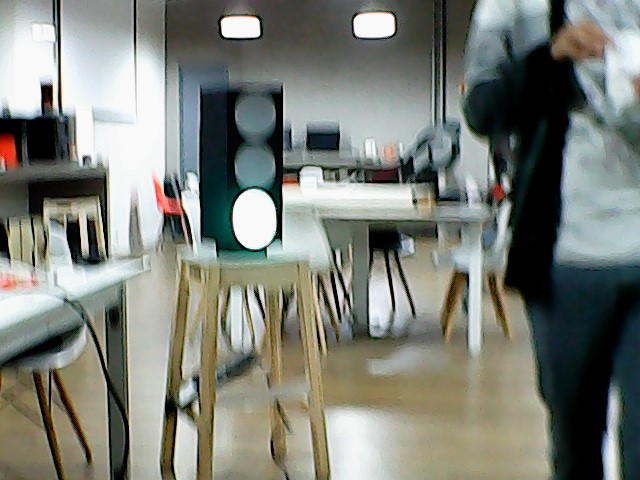verde: (192, 81, 288, 262)
